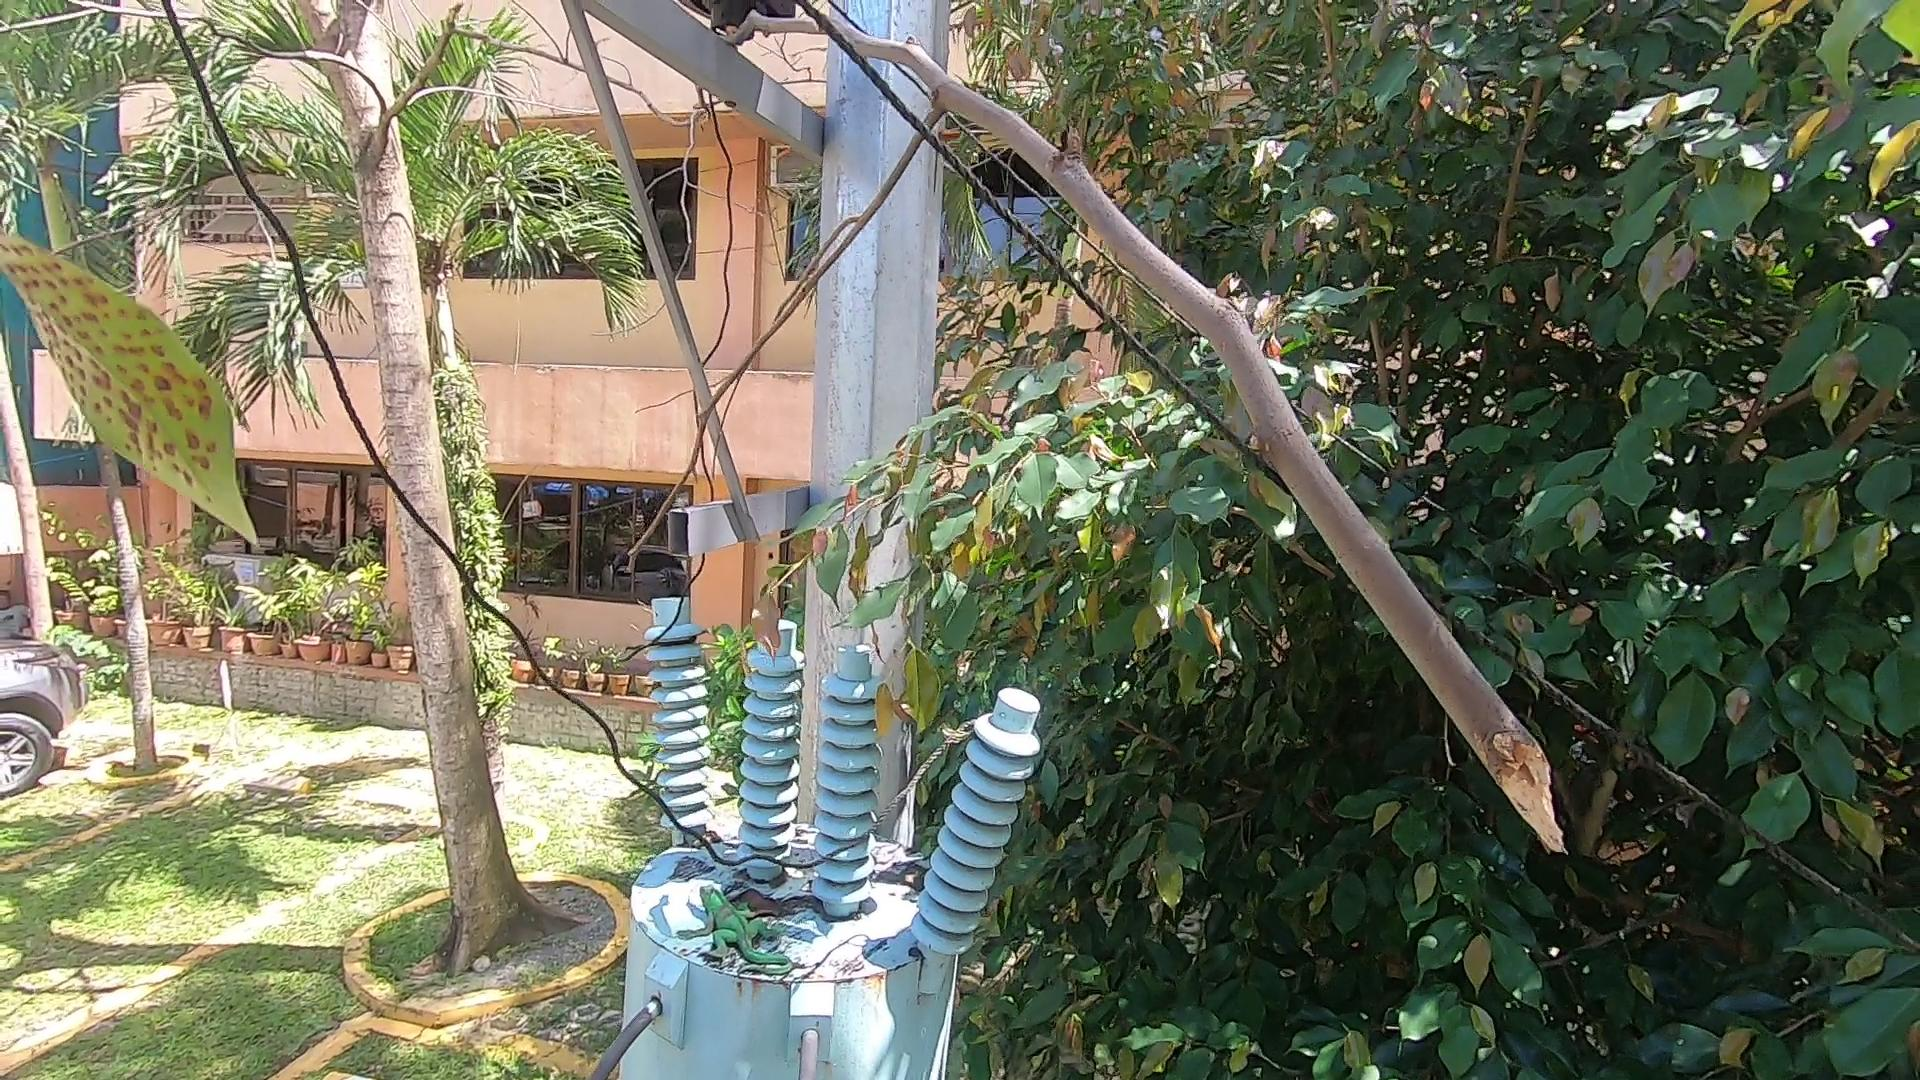branch with leaves: (688, 448, 985, 732)
leaf: (728, 878, 856, 951), (881, 851, 943, 905), (683, 825, 735, 872)
tree branch: (683, 5, 1578, 905)
